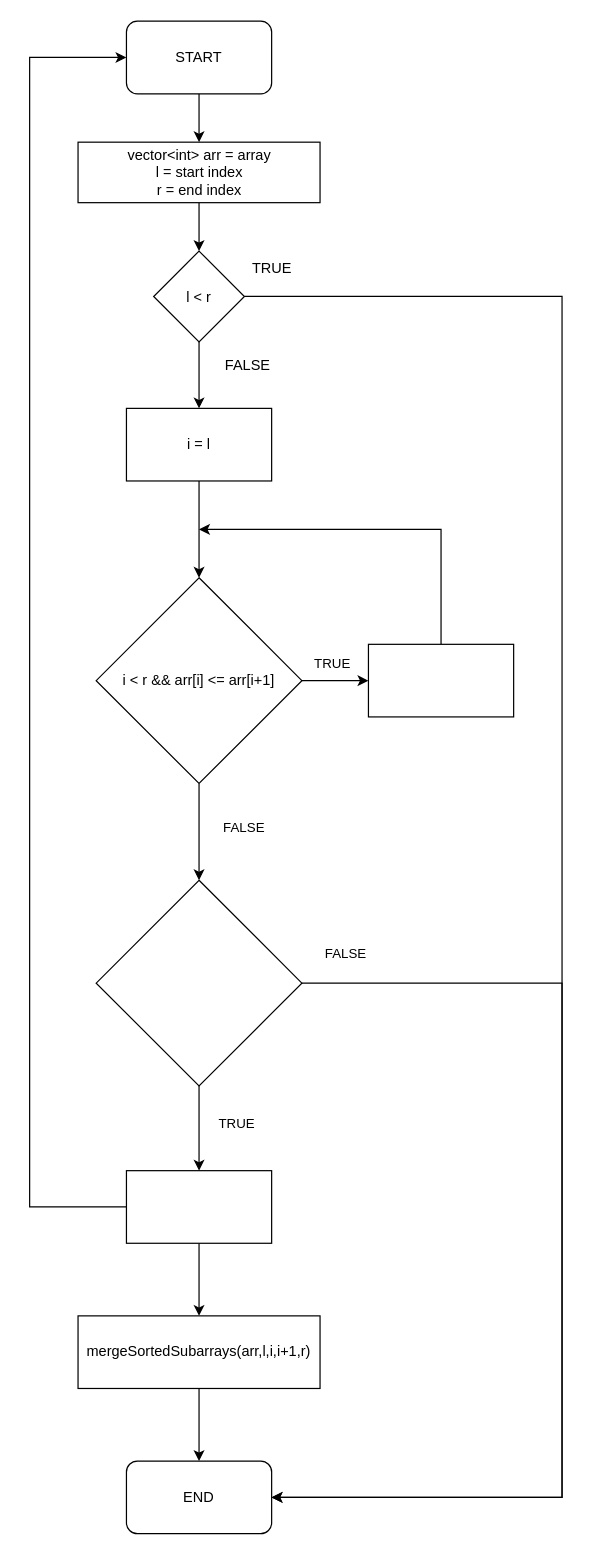
The diagram is 593 pixels wide and 1555 high, and some of its shapes have lost their labels. The centre of each missing label's shape, as x and y in pixels:
i < r: the point at 198,982
i++: the point at 440,680
Sort(arr, i+1,r): the point at 198,1206
